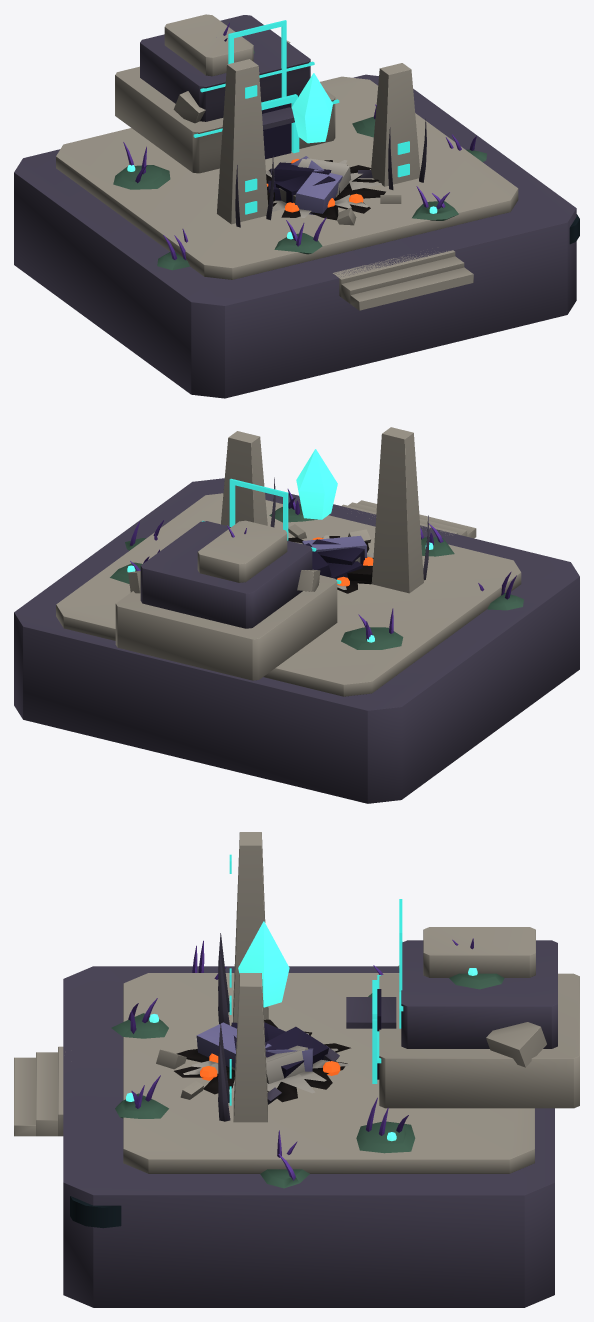
File: sealed-vault-nacre.glb
3 renders of one model, top to bottom at view 1: azimuth 30°, elevation 25°; view 2: azimuth 150°, elevation 25°; view 3: azimuth 270°, elevation 25°, orthographic. The views are drawn at different scales.
Parts seen in each view (by area): view 1: site_sealed_vault_nacre_body, site_sealed_vault_nacre_ruin, site_sealed_vault_nacre_core; view 2: site_sealed_vault_nacre_body, site_sealed_vault_nacre_ruin, site_sealed_vault_nacre_core; view 3: site_sealed_vault_nacre_body, site_sealed_vault_nacre_ruin, site_sealed_vault_nacre_core.
Part boxes in pixels (x1,y1,x2,y2): site_sealed_vault_nacre_body: (14, 14, 579, 398); site_sealed_vault_nacre_ruin: (266, 156, 401, 225); site_sealed_vault_nacre_core: (291, 73, 332, 143); site_sealed_vault_nacre_body: (14, 427, 579, 803); site_sealed_vault_nacre_ruin: (288, 524, 373, 593); site_sealed_vault_nacre_core: (296, 449, 337, 519); site_sealed_vault_nacre_body: (14, 832, 579, 1307); site_sealed_vault_nacre_ruin: (156, 1019, 350, 1104); site_sealed_vault_nacre_core: (238, 921, 289, 1007).
Bounding box in the file's own units: 5.45 × 3.4 × 5.64.
